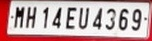character: (65, 6, 77, 29), (91, 7, 103, 30), (104, 8, 116, 30), (25, 5, 36, 28), (13, 6, 24, 28), (118, 8, 129, 30), (51, 7, 62, 28), (78, 6, 88, 29), (131, 8, 141, 31), (41, 6, 48, 28)
